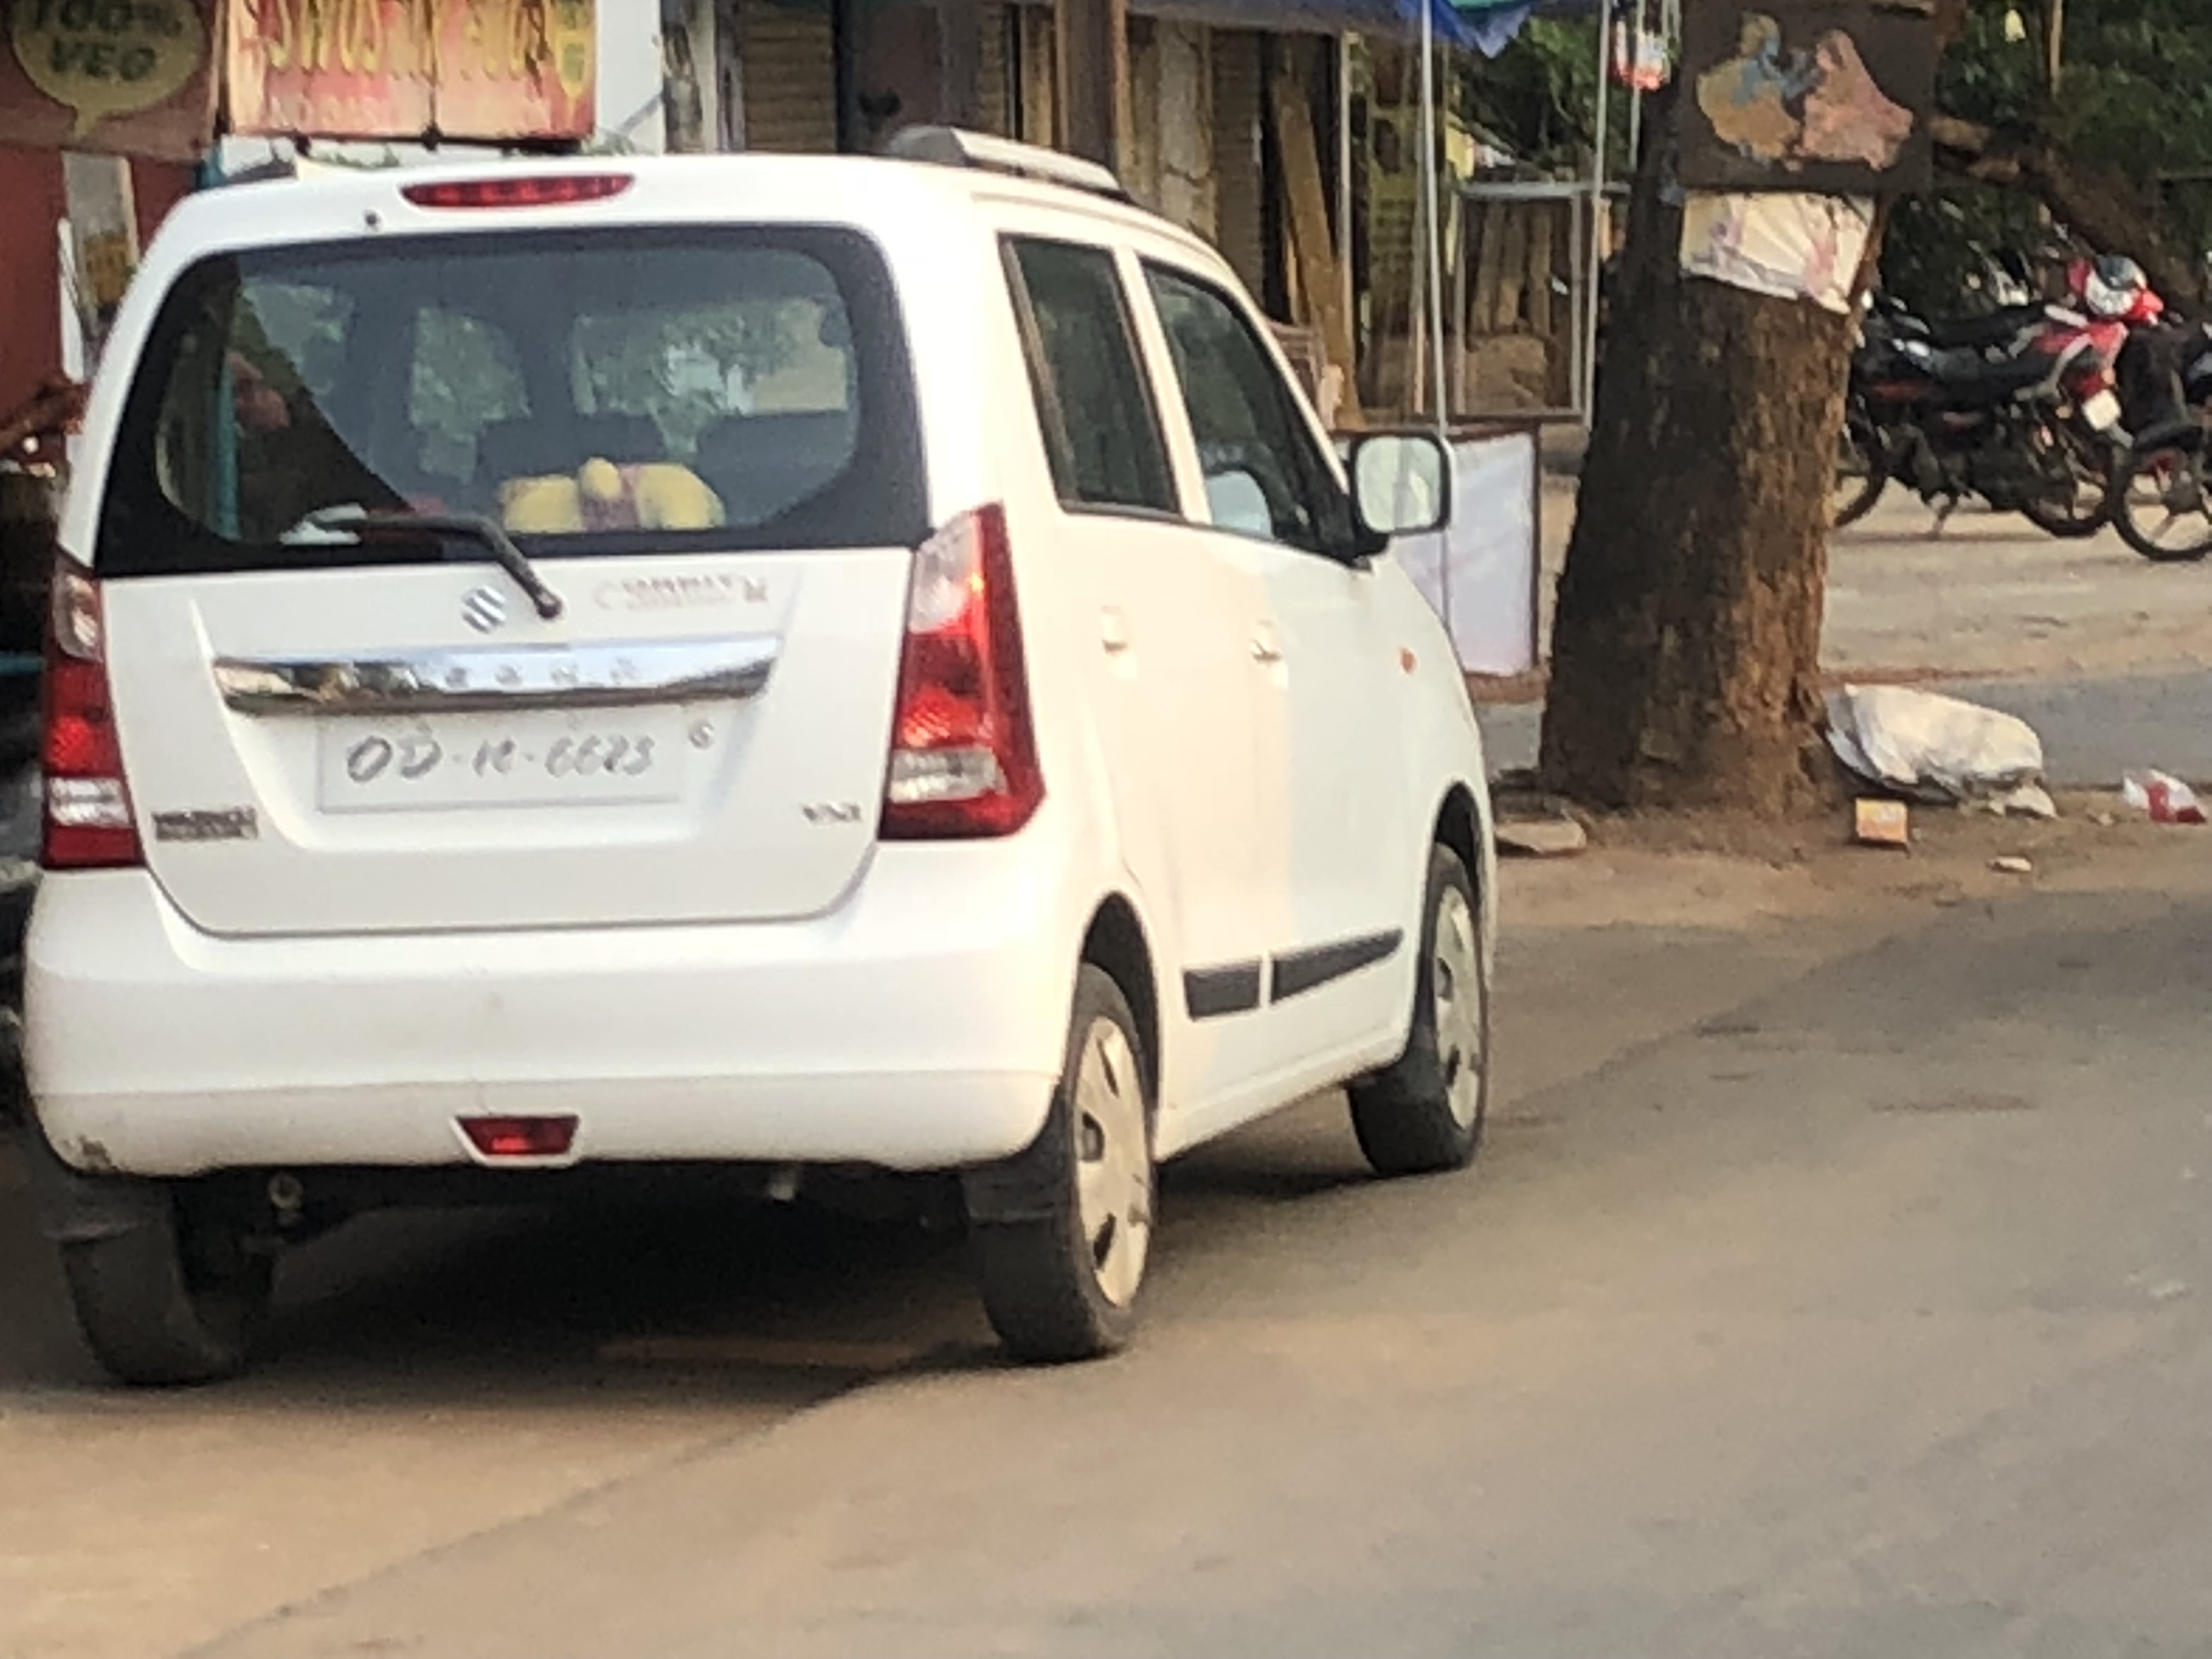licenseplate: (314, 703, 708, 815)
